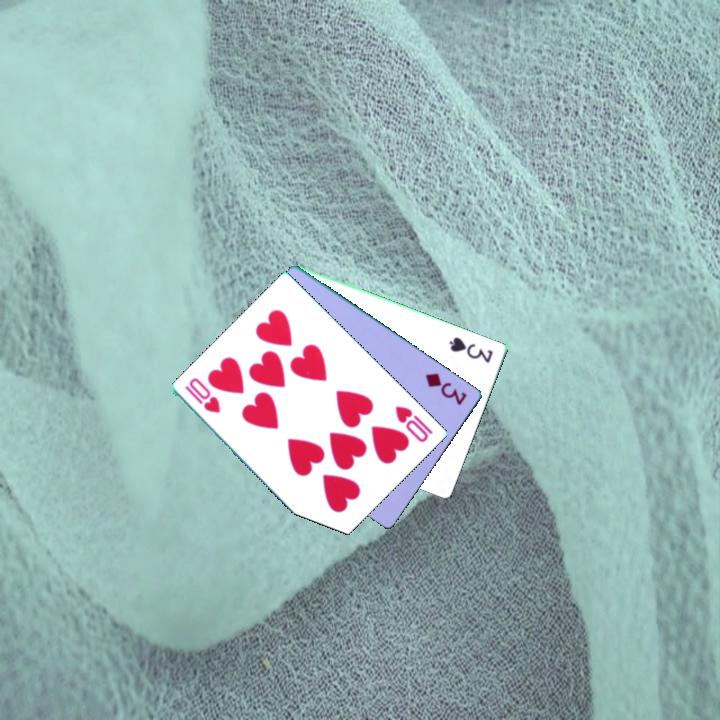10h: (392, 402, 436, 445), (182, 374, 224, 416)
3d: (422, 369, 470, 408)
3s: (446, 333, 496, 366)
